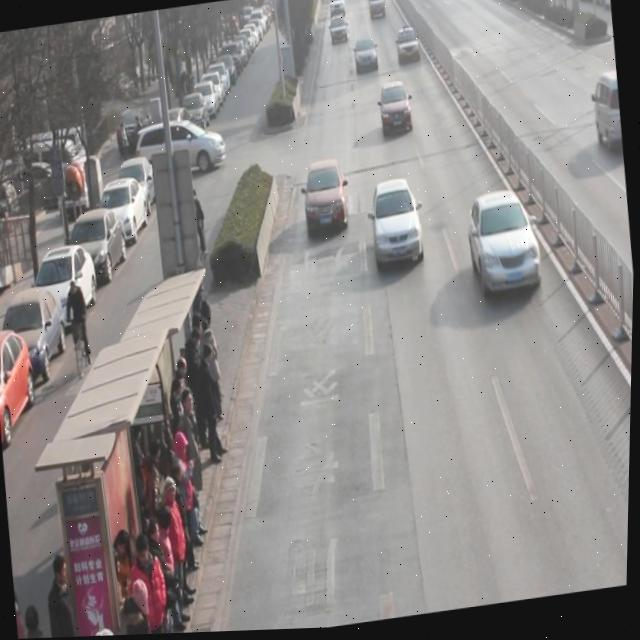car: (465, 189, 546, 305), (368, 177, 428, 273), (300, 157, 352, 239), (377, 80, 416, 140), (394, 27, 422, 68), (352, 35, 379, 77), (328, 15, 348, 45)
truck: (589, 71, 625, 157)
